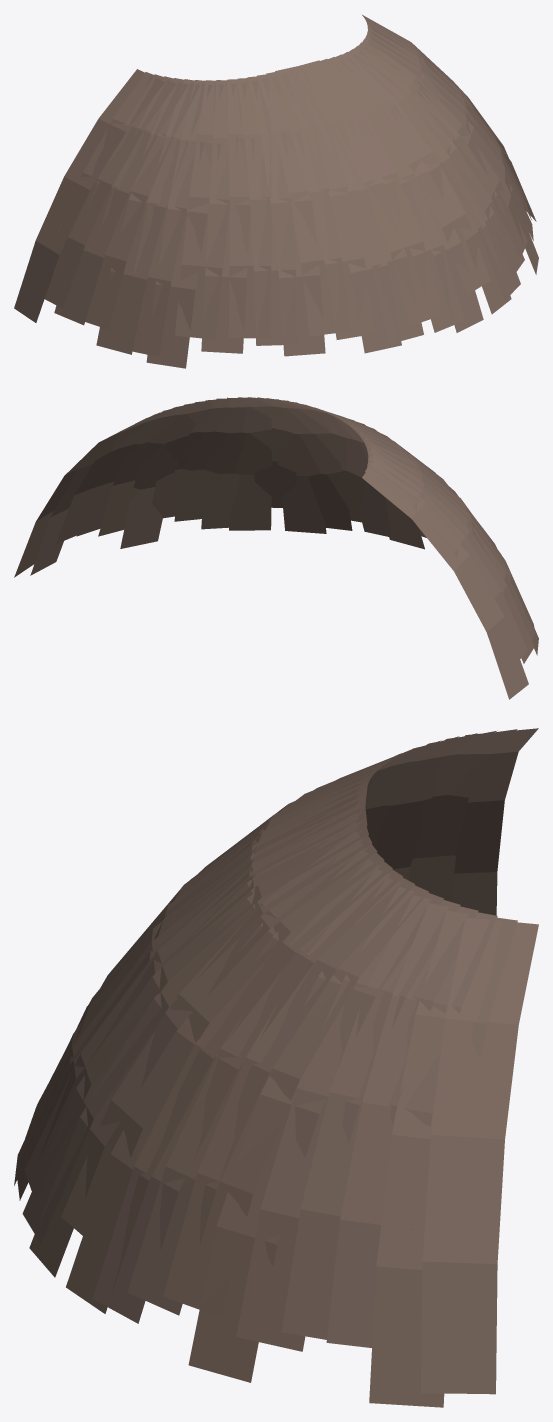
3 views of the same model, one above another, from view 1: azimuth 30°, elevation 25°; view 2: azimuth 150°, elevation 25°; view 3: azimuth 270°, elevation 25° (orthographic). The views are drawn at different scales.
Visible parts, largest first — view 1: front_001; view 2: front_001; view 3: front_001.
Part boxes in pixels (x1,y1,x2,y2): front_001: [14, 15, 538, 368]; front_001: [14, 397, 538, 699]; front_001: [14, 728, 538, 1407].
Bounding box in the file's own units: 0.1632 × 0.0692 × 0.0838.
